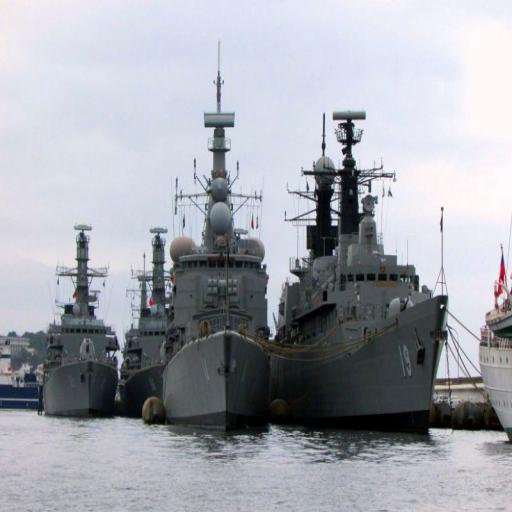Fragata: (272, 97, 463, 444), (160, 34, 280, 436), (37, 205, 122, 424), (116, 215, 178, 421)
